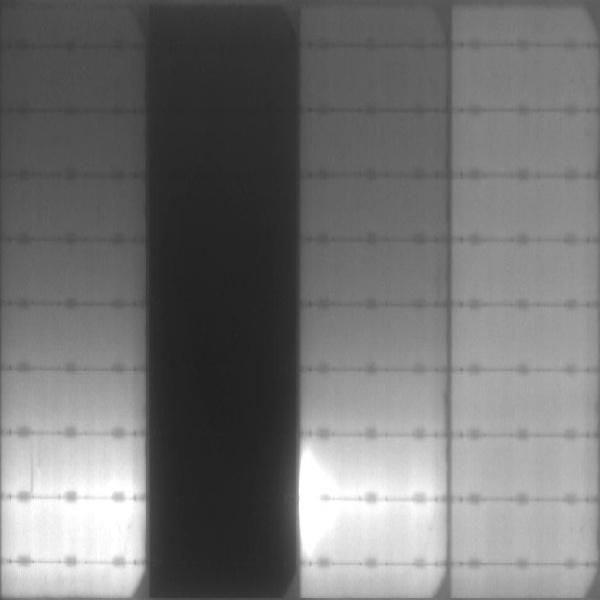hot_spot: (29, 505, 137, 554), (300, 444, 326, 558), (329, 505, 383, 527), (328, 478, 357, 496)
no_electricity: (146, 6, 301, 599)
